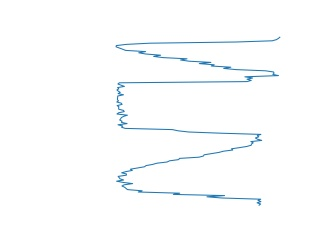distributaryChannelFill: (112, 71, 270, 142)
mouthBar: (113, 29, 283, 79)
underwaterDistributaryChannel: (112, 139, 266, 207)
